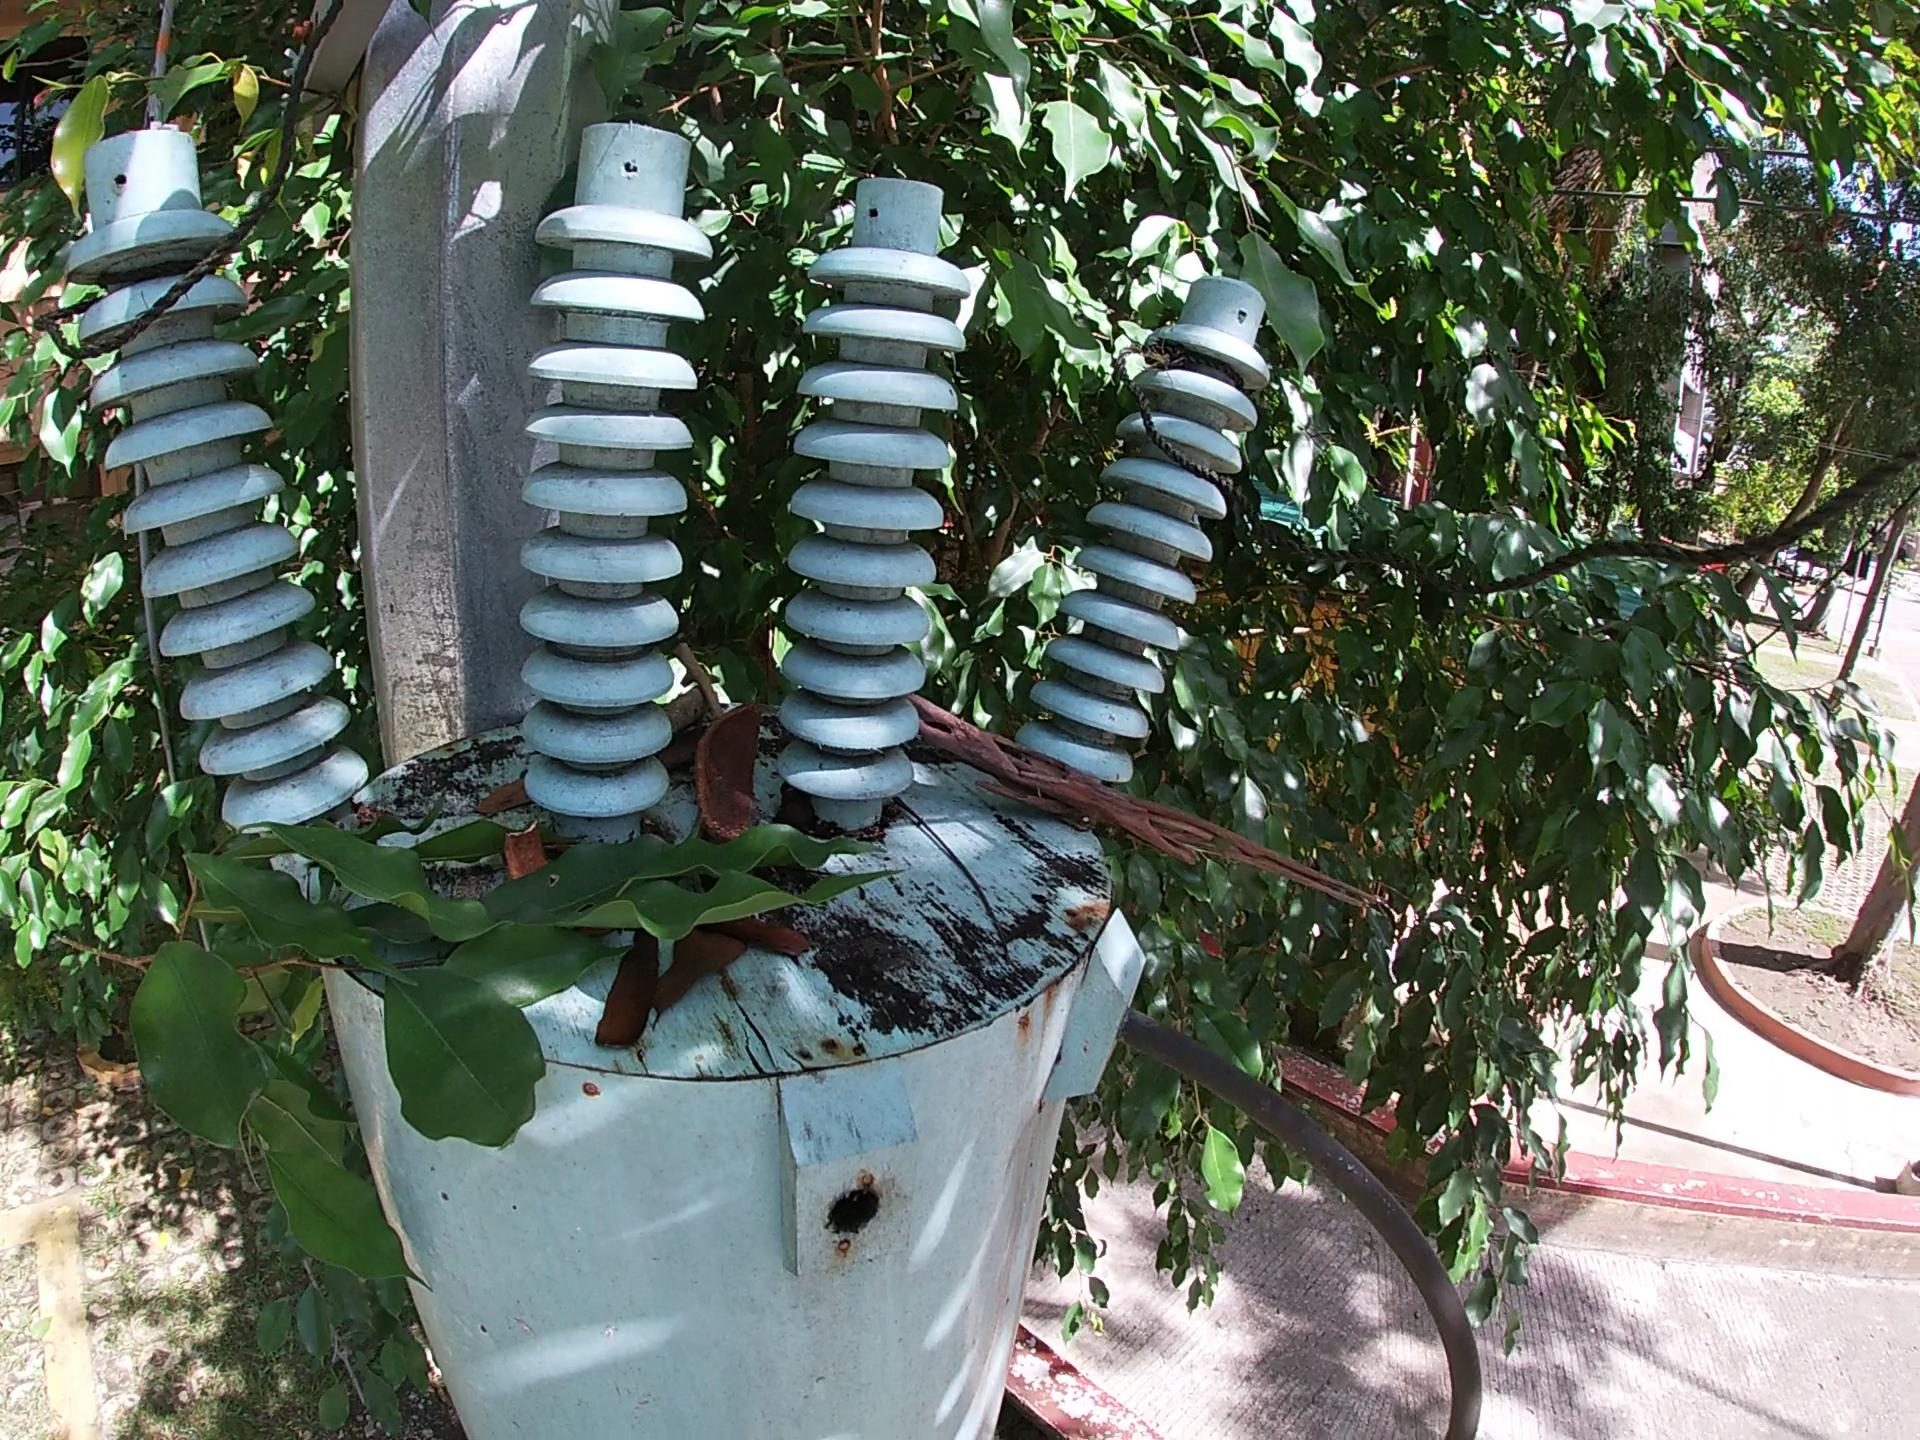branch with leaves: (122, 788, 912, 1301)
leaf: (647, 924, 748, 1035), (587, 924, 667, 1056), (698, 911, 819, 964), (466, 773, 541, 820)
mahogany fruit: (691, 699, 770, 839), (497, 817, 547, 880)
tree branch: (909, 690, 1395, 921), (670, 638, 727, 718), (662, 684, 708, 735)
